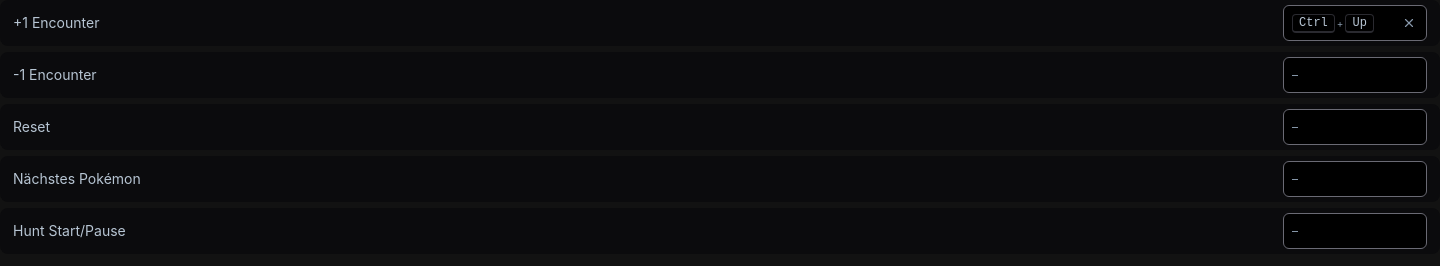
Test: HotkeySettings › enters recording mode when a cell is clicked and announces it
Click the button with aria-label "+1 Encounter: Ctrl+Up" at (1355, 23), box [1283,5,1427,41]
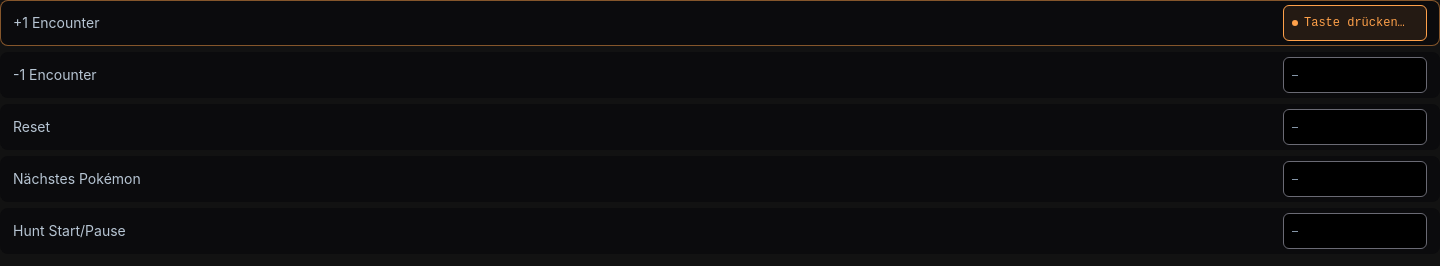
Now the button with aria-label "+1 Encounter: Taste drücken…" reads "Taste drücken…", box [1283,5,1427,41]
